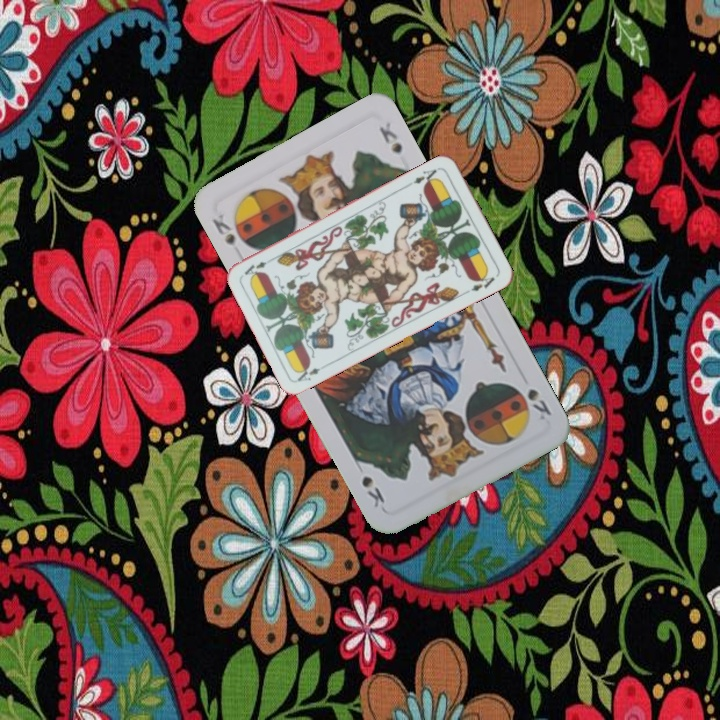EA: (293, 360, 331, 384), (409, 164, 442, 189)
SK: (208, 210, 253, 261), (523, 384, 554, 423)
